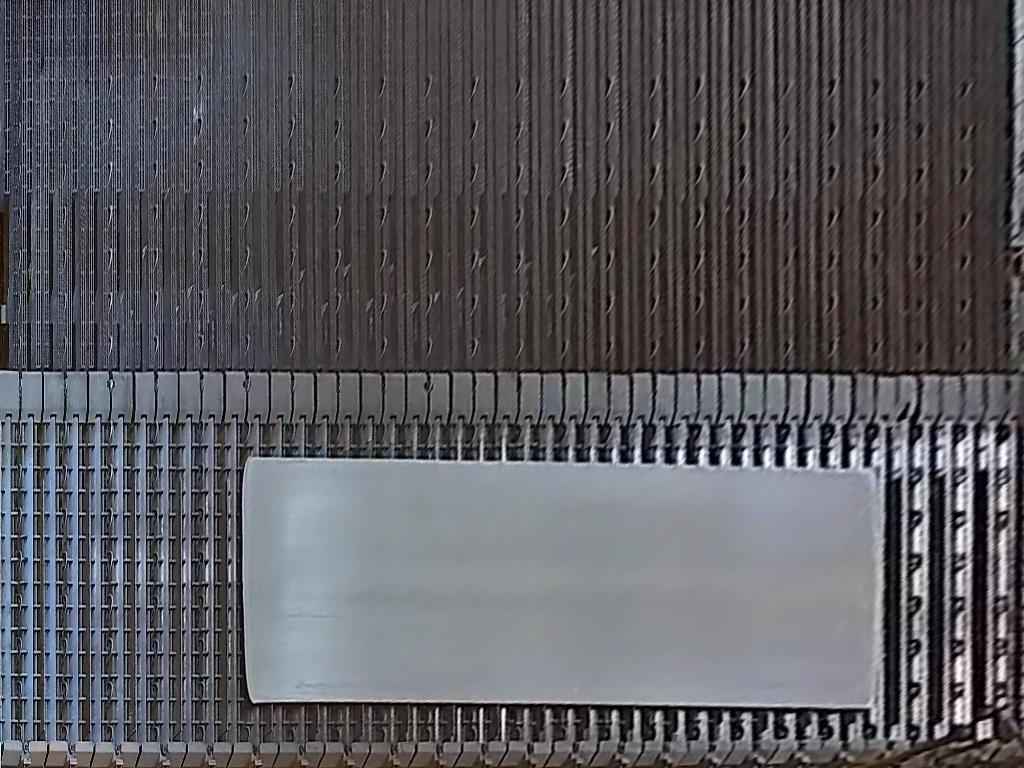steel: (242, 458, 881, 709)
